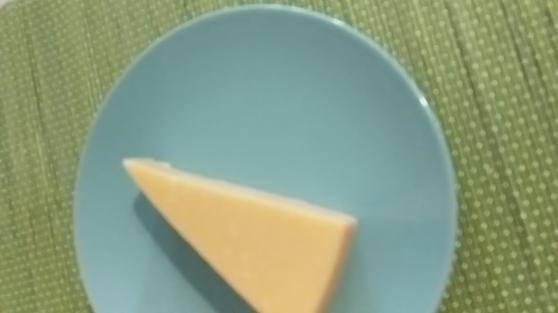cheese: (122, 156, 359, 313)
